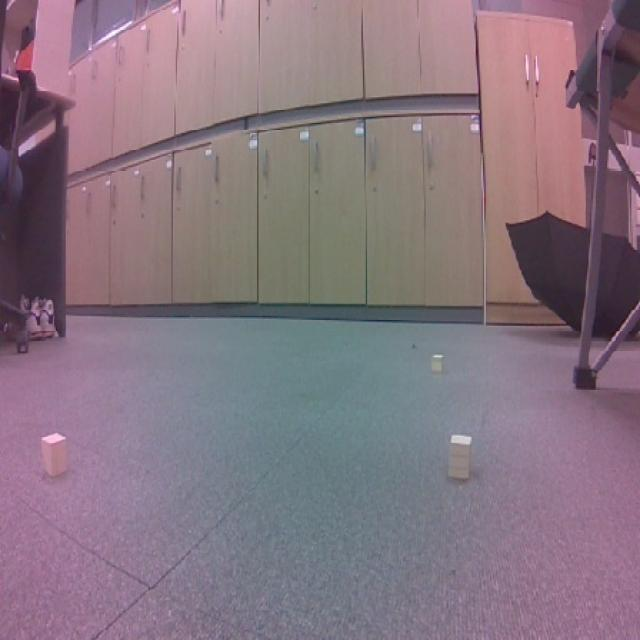obstacle: (438, 428, 490, 495), (34, 428, 80, 488)
